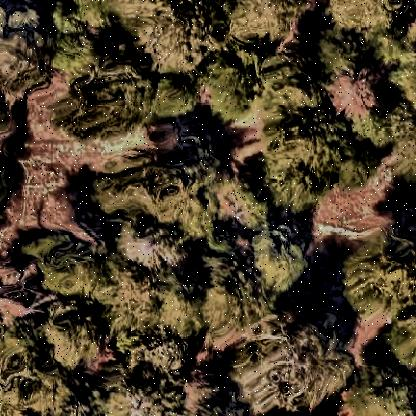tree-top: (255, 96, 373, 212), (233, 308, 353, 410), (111, 322, 207, 416), (335, 226, 416, 318), (105, 202, 193, 283), (34, 290, 120, 371), (60, 74, 157, 144), (201, 37, 275, 120), (41, 2, 137, 64), (246, 220, 310, 295), (31, 226, 99, 292), (322, 57, 394, 117), (344, 357, 416, 416), (142, 63, 206, 123), (312, 20, 372, 78)
